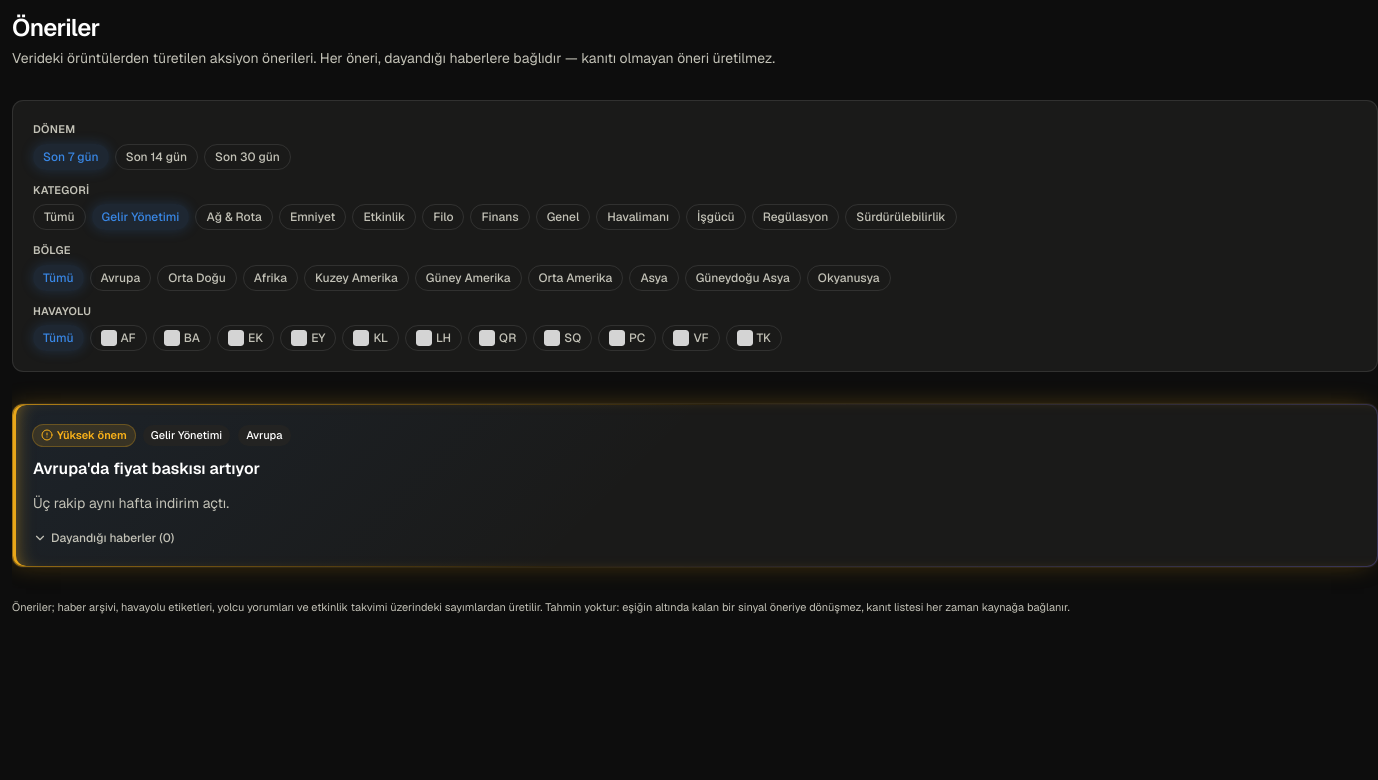
Test: RecommendationsClient › never shows the previous filter set's cards under the new chips
The image size is (1378, 780).
Expected: the heading "Avrupa'da fiyat baskısı artıyor" is shown, 33,458 -> 260,478
Click the button "Son 30 gün": (248, 156) 204,144 -> 291,170
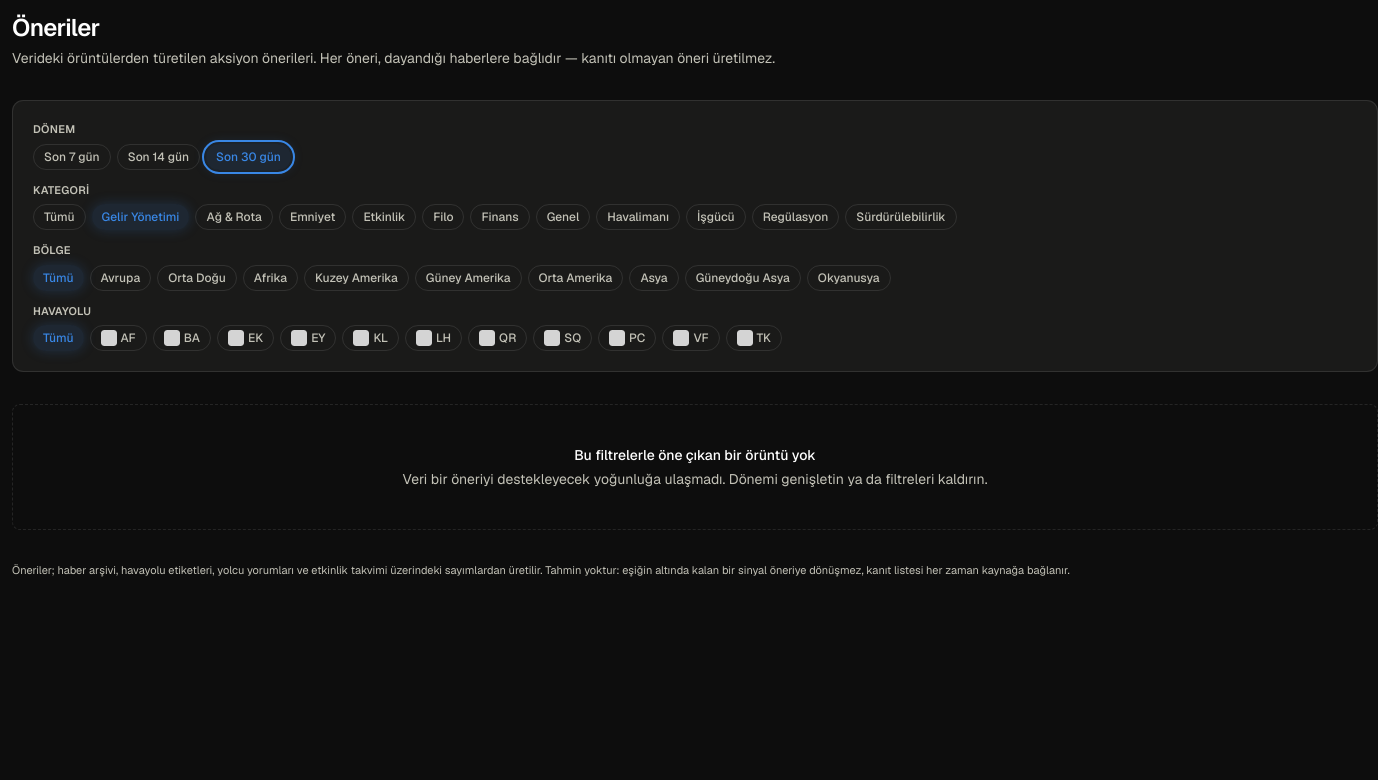
Now the heading "Avrupa'da fiyat baskısı artıyor" is gone
Now the text "Bu filtrelerle öne çıkan bir örüntü yok" is shown, box 574,446 -> 816,464
